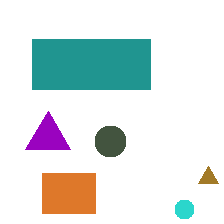circle: (95, 126, 125, 156), (175, 200, 193, 218)
rectangle: (32, 39, 150, 89), (42, 173, 95, 213)
triangle: (25, 111, 70, 149), (198, 166, 218, 183)
